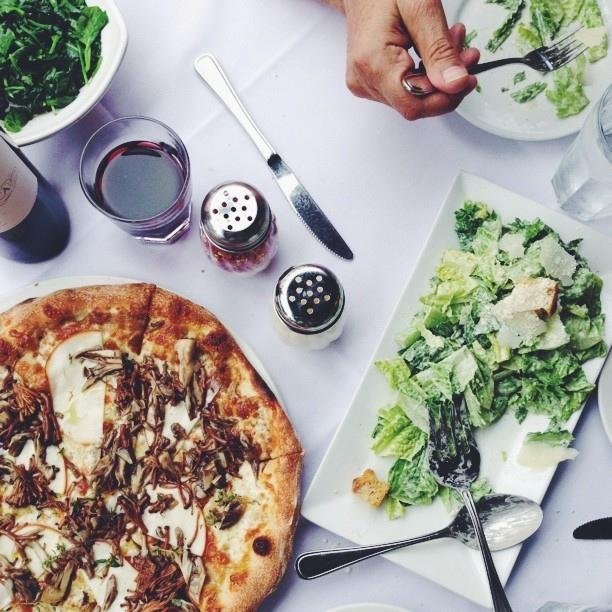lettuce: (557, 234, 606, 336), (516, 415, 580, 472), (370, 401, 429, 462), (518, 293, 570, 354), (546, 54, 591, 120), (505, 232, 559, 287), (437, 276, 498, 324), (398, 434, 438, 498), (472, 221, 508, 290), (484, 0, 526, 53), (76, 5, 108, 72), (538, 232, 576, 286), (528, 0, 566, 45), (469, 348, 495, 410), (453, 201, 482, 254), (562, 314, 602, 351), (507, 217, 545, 255), (504, 310, 548, 342), (451, 477, 496, 505), (424, 306, 460, 338), (428, 362, 454, 404), (441, 249, 480, 276), (570, 339, 608, 366), (400, 340, 432, 371), (477, 396, 508, 424), (510, 81, 548, 103), (429, 337, 461, 363), (468, 314, 500, 340), (560, 390, 586, 421), (458, 302, 476, 346), (574, 26, 608, 48), (586, 31, 608, 63), (57, 34, 79, 66), (499, 348, 525, 374), (559, 0, 584, 27), (519, 22, 543, 50), (442, 288, 464, 317), (494, 375, 522, 396), (384, 496, 407, 520), (20, 25, 42, 48), (514, 70, 525, 86)
